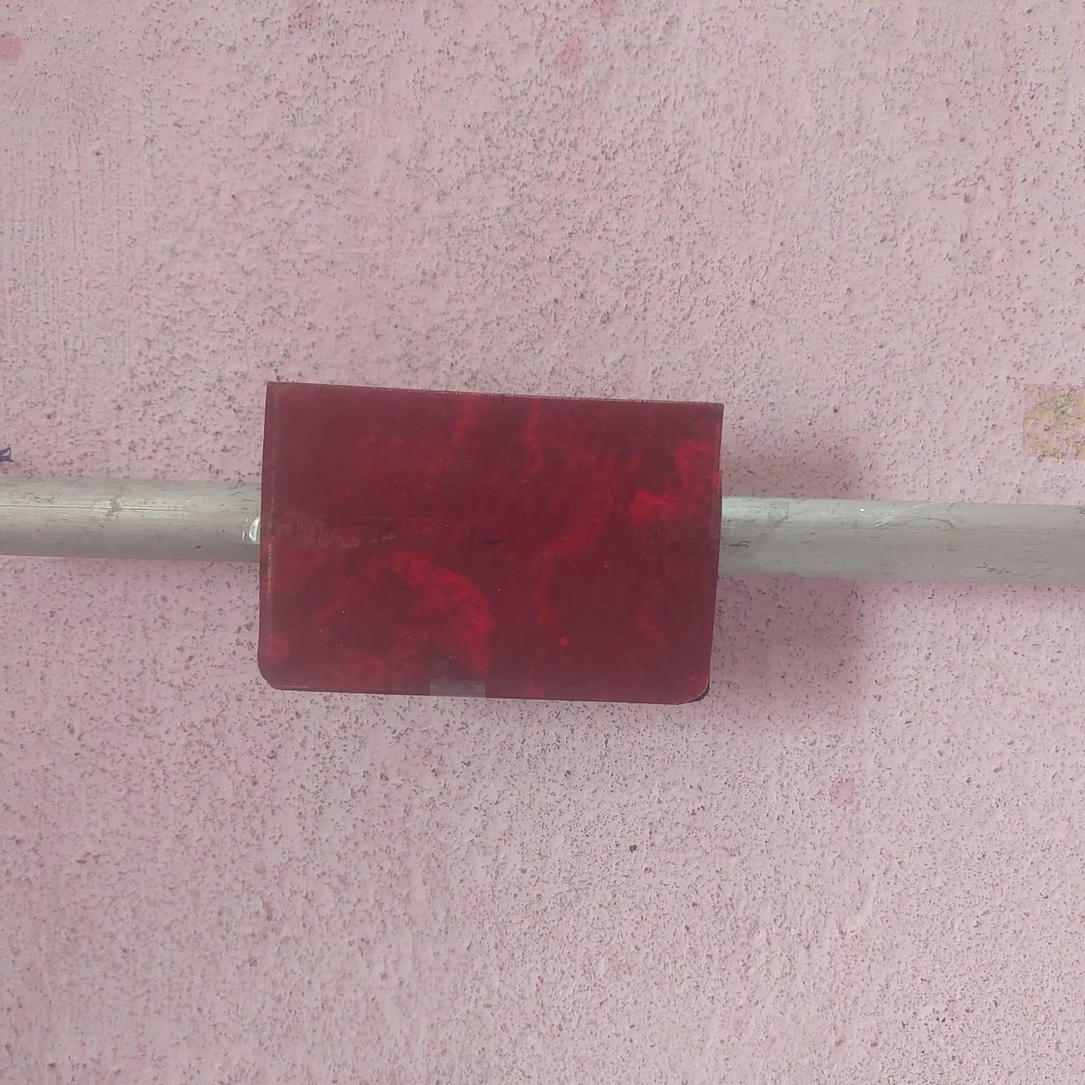wallet: (254, 378, 722, 699)
